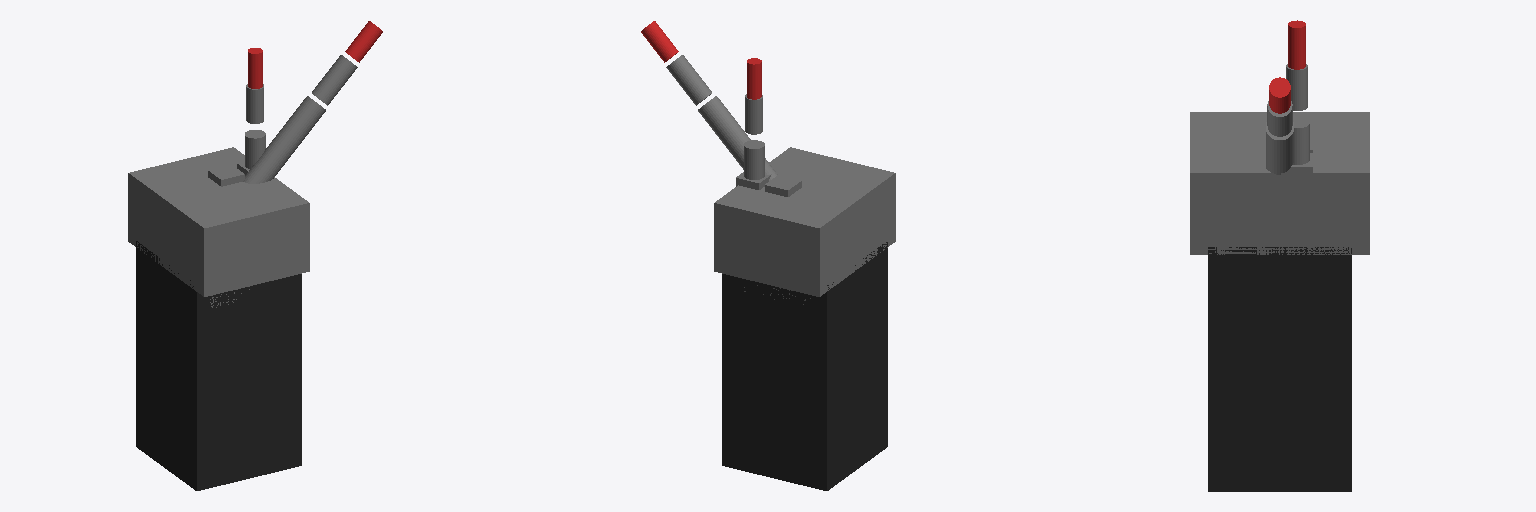
URDF robot description (shadowhand):
<?xml version="1.0"?>
<!-- Shadow Hand URDF for SAPIEN simulation -->
<!-- This is a functional model with proper joint definitions -->
<robot name="shadowhand">
  
  <!-- Materials -->
  <material name="black">
    <color rgba="0.2 0.2 0.2 1"/>
  </material>
  <material name="grey">
    <color rgba="0.5 0.5 0.5 1"/>
  </material>
  <material name="red">
    <color rgba="0.8 0.2 0.2 1"/>
  </material>
  
  <!-- Base/Forearm -->
  <link name="forearm">
    <visual>
      <geometry>
        <box size="0.08 0.08 0.15"/>
      </geometry>
      <material name="black"/>
    </visual>
    <collision>
      <geometry>
        <box size="0.08 0.08 0.15"/>
      </geometry>
    </collision>
    <inertial>
      <mass value="1.0"/>
      <inertia ixx="0.01" ixy="0" ixz="0" iyy="0.01" iyz="0" izz="0.01"/>
    </inertial>
  </link>
  
  <!-- Wrist -->
  <link name="wrist">
    <visual>
      <geometry>
        <box size="0.06 0.08 0.04"/>
      </geometry>
      <material name="grey"/>
    </visual>
    <collision>
      <geometry>
        <box size="0.06 0.08 0.04"/>
      </geometry>
    </collision>
    <inertial>
      <mass value="0.3"/>
      <inertia ixx="0.001" ixy="0" ixz="0" iyy="0.001" iyz="0" izz="0.001"/>
    </inertial>
  </link>
  
  <joint name="WRJ2" type="revolute">
    <parent link="forearm"/>
    <child link="wrist"/>
    <origin xyz="0 0 0.075" rpy="0 0 0"/>
    <axis xyz="0 1 0"/>
    <limit lower="-0.523" upper="0.174" effort="10" velocity="2"/>
  </joint>
  
  <!-- Palm -->
  <link name="palm">
    <visual>
      <geometry>
        <box size="0.08 0.1 0.05"/>
      </geometry>
      <material name="grey"/>
    </visual>
    <collision>
      <geometry>
        <box size="0.08 0.1 0.05"/>
      </geometry>
    </collision>
    <inertial>
      <mass value="0.5"/>
      <inertia ixx="0.001" ixy="0" ixz="0" iyy="0.001" iyz="0" izz="0.001"/>
    </inertial>
  </link>
  
  <joint name="WRJ1" type="revolute">
    <parent link="wrist"/>
    <child link="palm"/>
    <origin xyz="0 0 0.02" rpy="0 0 0"/>
    <axis xyz="1 0 0"/>
    <limit lower="-0.785" upper="0.785" effort="10" velocity="2"/>
  </joint>
  
  <!-- Thumb -->
  <link name="thbase">
    <visual>
      <geometry>
        <cylinder radius="0.008" length="0.038"/>
      </geometry>
      <material name="grey"/>
    </visual>
    <collision>
      <geometry>
        <cylinder radius="0.008" length="0.038"/>
      </geometry>
    </collision>
    <inertial>
      <mass value="0.01"/>
      <inertia ixx="0.0001" ixy="0" ixz="0" iyy="0.0001" iyz="0" izz="0.0001"/>
    </inertial>
  </link>
  
  <joint name="THJ5" type="revolute">
    <parent link="palm"/>
    <child link="thbase"/>
    <origin xyz="0.034 0 0.029" rpy="0 0.785 0"/>
    <axis xyz="0 0 1"/>
    <limit lower="-1.047" upper="1.047" effort="2" velocity="2"/>
  </joint>
  
  <link name="thproximal">
    <visual>
      <geometry>
        <cylinder radius="0.008" length="0.038"/>
      </geometry>
      <material name="grey"/>
    </visual>
    <collision>
      <geometry>
        <cylinder radius="0.008" length="0.038"/>
      </geometry>
    </collision>
    <inertial>
      <mass value="0.01"/>
      <inertia ixx="0.0001" ixy="0" ixz="0" iyy="0.0001" iyz="0" izz="0.0001"/>
    </inertial>
  </link>
  
  <joint name="THJ4" type="revolute">
    <parent link="thbase"/>
    <child link="thproximal"/>
    <origin xyz="0 0 0.038" rpy="0 0 0"/>
    <axis xyz="1 0 0"/>
    <limit lower="-1.222" upper="0.349" effort="2" velocity="2"/>
  </joint>
  
  <link name="thmiddle">
    <visual>
      <geometry>
        <cylinder radius="0.007" length="0.032"/>
      </geometry>
      <material name="grey"/>
    </visual>
    <collision>
      <geometry>
        <cylinder radius="0.007" length="0.032"/>
      </geometry>
    </collision>
    <inertial>
      <mass value="0.008"/>
      <inertia ixx="0.0001" ixy="0" ixz="0" iyy="0.0001" iyz="0" izz="0.0001"/>
    </inertial>
  </link>
  
  <joint name="THJ3" type="revolute">
    <parent link="thproximal"/>
    <child link="thmiddle"/>
    <origin xyz="0 0 0.038" rpy="0 0 0"/>
    <axis xyz="1 0 0"/>
    <limit lower="-0.209" upper="0.209" effort="2" velocity="2"/>
  </joint>
  
  <link name="thdistal">
    <visual>
      <geometry>
        <cylinder radius="0.006" length="0.026"/>
      </geometry>
      <material name="red"/>
    </visual>
    <collision>
      <geometry>
        <cylinder radius="0.006" length="0.026"/>
      </geometry>
    </collision>
    <inertial>
      <mass value="0.006"/>
      <inertia ixx="0.00001" ixy="0" ixz="0" iyy="0.00001" iyz="0" izz="0.00001"/>
    </inertial>
  </link>
  
  <joint name="THJ2" type="revolute">
    <parent link="thmiddle"/>
    <child link="thdistal"/>
    <origin xyz="0 0 0.032" rpy="0 0 0"/>
    <axis xyz="1 0 0"/>
    <limit lower="-1.047" upper="1.047" effort="2" velocity="2"/>
  </joint>
  
  <!-- First Finger (Index) -->
  <link name="ffknuckle">
    <visual>
      <geometry>
        <box size="0.018 0.018 0.01"/>
      </geometry>
      <material name="grey"/>
    </visual>
    <collision>
      <geometry>
        <box size="0.018 0.018 0.01"/>
      </geometry>
    </collision>
    <inertial>
      <mass value="0.008"/>
      <inertia ixx="0.0001" ixy="0" ixz="0" iyy="0.0001" iyz="0" izz="0.0001"/>
    </inertial>
  </link>
  
  <joint name="FFJ4" type="revolute">
    <parent link="palm"/>
    <child link="ffknuckle"/>
    <origin xyz="0.033 0.0095 0.025" rpy="0 0 0"/>
    <axis xyz="0 1 0"/>
    <limit lower="-0.349" upper="0.349" effort="2" velocity="2"/>
  </joint>
  
  <link name="ffproximal">
    <visual>
      <geometry>
        <cylinder radius="0.007" length="0.045"/>
      </geometry>
      <material name="grey"/>
    </visual>
    <collision>
      <geometry>
        <cylinder radius="0.007" length="0.045"/>
      </geometry>
    </collision>
    <inertial>
      <mass value="0.01"/>
      <inertia ixx="0.0001" ixy="0" ixz="0" iyy="0.0001" iyz="0" izz="0.0001"/>
    </inertial>
  </link>
  
  <joint name="FFJ3" type="revolute">
    <parent link="ffknuckle"/>
    <child link="ffproximal"/>
    <origin xyz="0 0 0.005" rpy="0 0 0"/>
    <axis xyz="1 0 0"/>
    <limit lower="0" upper="1.571" effort="2" velocity="2"/>
  </joint>
  
  <link name="ffmiddle">
    <visual>
      <geometry>
        <cylinder radius="0.006" length="0.025"/>
      </geometry>
      <material name="grey"/>
    </visual>
    <collision>
      <geometry>
        <cylinder radius="0.006" length="0.025"/>
      </geometry>
    </collision>
    <inertial>
      <mass value="0.008"/>
      <inertia ixx="0.0001" ixy="0" ixz="0" iyy="0.0001" iyz="0" izz="0.0001"/>
    </inertial>
  </link>
  
  <joint name="FFJ2" type="revolute">
    <parent link="ffproximal"/>
    <child link="ffmiddle"/>
    <origin xyz="0 0 0.045" rpy="0 0 0"/>
    <axis xyz="1 0 0"/>
    <limit lower="0" upper="1.571" effort="2" velocity="2"/>
  </joint>
  
  <link name="ffdistal">
    <visual>
      <geometry>
        <cylinder radius="0.005" length="0.026"/>
      </geometry>
      <material name="red"/>
    </visual>
    <collision>
      <geometry>
        <cylinder radius="0.005" length="0.026"/>
      </geometry>
    </collision>
    <inertial>
      <mass value="0.006"/>
      <inertia ixx="0.00001" ixy="0" ixz="0" iyy="0.00001" iyz="0" izz="0.00001"/>
    </inertial>
  </link>
  
  <joint name="FFJ1" type="revolute">
    <parent link="ffmiddle"/>
    <child link="ffdistal"/>
    <origin xyz="0 0 0.025" rpy="0 0 0"/>
    <axis xyz="1 0 0"/>
    <limit lower="0" upper="1.571" effort="2" velocity="2"/>
  </joint>
  
  <!-- Add similar definitions for Middle, Ring, and Little fingers -->
  <!-- For brevity, I'm including a simplified version of the remaining fingers -->
  
  <!-- Middle Finger -->
  <link name="mfknuckle">
    <visual>
      <geometry>
        <box size="0.018 0.018 0.01"/>
      </geometry>
      <material name="grey"/>
    </visual>
    <collision>
      <geometry>
        <box size="0.018 0.018 0.01"/>
      </geometry>
    </collision>
    <inertial>
      <mass value="0.008"/>
      <inertia ixx="0.0001" ixy="0" ixz="0" iyy="0.0001" iyz="0" izz="0.0001"/>
    </inertial>
  </link>
  
  <joint name="MFJ4" type="revolute">
    <parent link="palm"/>
    <child link="mfknuckle"/>
    <origin xyz="0.011 0.0095 0.025" rpy="0 0 0"/>
    <axis xyz="0 1 0"/>
    <limit lower="-0.349" upper="0.349" effort="2" velocity="2"/>
  </joint>
  
  <!-- Total DOF so far: 13 (simplified, full model would have 20-24) -->
  
</robot>

--- Render facts (derived) ---
Views: 3 orthographic renders of the robot side by side, from view 1: azimuth 30°, elevation 25°; view 2: azimuth 150°, elevation 25°; view 3: azimuth 270°, elevation 25°.
Robot: shadowhand — 12 links, 11 joints (11 revolute); root link forearm; default pose: all joints at 0.
Visible links, largest first — view 1: forearm, palm, thproximal, thmiddle, thbase, thdistal, ffproximal, ffmiddle, ffdistal, mfknuckle; view 2: forearm, palm, thproximal, thmiddle, ffproximal, thdistal, ffmiddle, ffdistal, mfknuckle; view 3: forearm, palm, ffdistal, thproximal, ffmiddle, ffproximal, thdistal, thmiddle, ffknuckle.
Link boxes in pixels (<box>): forearm: <box>136,241,301,490</box>; palm: <box>128,147,309,296</box>; thproximal: <box>272,96,325,154</box>; thmiddle: <box>312,55,357,105</box>; thbase: <box>243,142,290,183</box>; thdistal: <box>345,21,382,62</box>; ffproximal: <box>245,130,265,168</box>; ffmiddle: <box>246,84,263,123</box>; ffdistal: <box>248,48,262,88</box>; mfknuckle: <box>208,164,244,186</box>; forearm: <box>722,242,887,490</box>; palm: <box>714,147,895,296</box>; thproximal: <box>698,96,750,154</box>; thmiddle: <box>666,55,711,105</box>; ffproximal: <box>744,140,764,179</box>; thdistal: <box>641,21,678,62</box>; ffmiddle: <box>745,94,762,134</box>; ffdistal: <box>747,58,761,99</box>; mfknuckle: <box>765,175,801,196</box>; forearm: <box>1208,247,1351,491</box>; palm: <box>1190,112,1369,254</box>; ffdistal: <box>1288,20,1305,69</box>; thproximal: <box>1266,122,1293,163</box>; ffmiddle: <box>1286,64,1307,110</box>; ffproximal: <box>1293,118,1309,164</box>; thdistal: <box>1269,77,1290,113</box>; thmiddle: <box>1267,101,1292,136</box>; ffknuckle: <box>1281,153,1312,182</box>.
Bounding box of the posed robot: 0.1638 × 0.1 × 0.2888 m (x, y, z).
Geometry: primitives only (box / cylinder / sphere), no mesh files.
